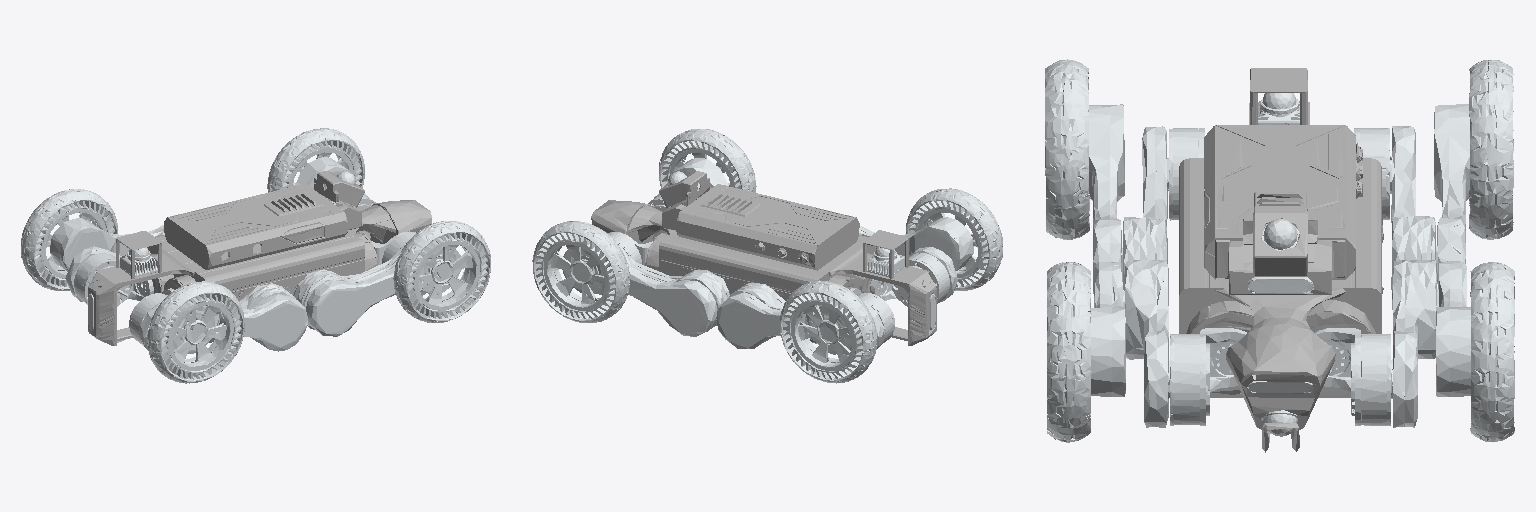
--- What the picture shows (computed from the rendered views, not written in the file) ---
Views: 3 orthographic renders of the robot side by side, from view 1: azimuth 30°, elevation 25°; view 2: azimuth 150°, elevation 25°; view 3: azimuth 270°, elevation 25°.
Model 轮足狗机器人v3 with 23 links and 22 joints (16 revolute, 6 fixed), rooted at base_link, posed every joint at zero.
Links seen in each view (by area): view 1: base_link, rr_foot_Link, fr_foot_Link, rl_foot_Link, fr_calf_Link, rr_calf_Link, fl_foot_Link, rl_calf_Link, rl_hip_Link, fr_thigh_Link, rr_thigh_Link, rr_hip_Link (+4 smaller); view 2: base_link, rl_foot_Link, fl_foot_Link, rr_foot_Link, fl_calf_Link, rl_calf_Link, fr_foot_Link, rr_calf_Link, rr_hip_Link, fl_thigh_Link, rl_thigh_Link, rl_hip_Link (+4 smaller); view 3: base_link, fr_foot_Link, rr_foot_Link, fl_foot_Link, rl_foot_Link, fl_thigh_Link, fr_thigh_Link, rr_calf_Link, rl_calf_Link, fl_hip_Link, fr_hip_Link, fl_calf_Link (+9 smaller).
Boxes of the visible links, x1,y1,x2,y2 form: base_link: (88, 171, 431, 345); rr_foot_Link: (147, 281, 244, 383); fr_foot_Link: (393, 221, 490, 322); rl_foot_Link: (21, 189, 117, 290); fr_calf_Link: (306, 247, 461, 336); rr_calf_Link: (173, 294, 307, 353); fl_foot_Link: (267, 128, 364, 192); rl_calf_Link: (50, 217, 164, 271); rl_hip_Link: (74, 253, 153, 306); fr_thigh_Link: (293, 244, 425, 329); rr_thigh_Link: (139, 283, 295, 349); rr_hip_Link: (129, 288, 174, 345); base_link: (591, 171, 936, 345); rl_foot_Link: (780, 281, 876, 383); fl_foot_Link: (532, 221, 629, 322); rr_foot_Link: (906, 188, 1002, 290); fl_calf_Link: (562, 247, 716, 336); rl_calf_Link: (716, 292, 851, 354); fr_foot_Link: (659, 129, 756, 192); rr_calf_Link: (859, 217, 973, 270); rr_hip_Link: (871, 253, 949, 306); fl_thigh_Link: (597, 245, 729, 331); rl_thigh_Link: (729, 283, 884, 350); rl_hip_Link: (850, 288, 894, 343); base_link: (1179, 68, 1383, 452); fr_foot_Link: (1047, 262, 1090, 442); rr_foot_Link: (1045, 59, 1089, 239); fl_foot_Link: (1470, 262, 1514, 441); rl_foot_Link: (1469, 60, 1513, 239); fl_thigh_Link: (1391, 260, 1436, 427); fr_thigh_Link: (1125, 260, 1169, 427); rr_calf_Link: (1088, 104, 1124, 307); rl_calf_Link: (1434, 104, 1469, 288); fl_hip_Link: (1315, 328, 1391, 425); fr_hip_Link: (1170, 328, 1246, 425); fl_calf_Link: (1436, 261, 1470, 396).
Bounding box of the posed robot: 0.8704 × 0.6146 × 0.2702 m (x, y, z).
Meshes: 23 distinct files referenced, 23 mesh visuals loaded (23 binary STL).

The robot description file, URDF, robot "轮足狗机器人v3":
<?xml version='1.0' encoding='utf-8'?>
<robot name="轮足狗机器人v3">
  <link name="base_link">
    <inertial>
      <origin xyz="-0.03614 0.00809 0.08134" rpy="0 0 0" />
      <mass value="16.68750" />
      <inertia ixx="0.23787" ixy="-0.00119" ixz="0.04530" iyy="0.52206" iyz="-0.00916" izz="0.45393" />
    </inertial>
    <visual>
      <origin xyz="0 0 0" rpy="0 0 0" />
      <geometry>
        <mesh filename="package://轮足狗机器人v3/meshes/base_link.STL" />
      </geometry>
      <material name="">
        <color rgba="0.752941176470588 0.752941176470588 0.752941176470588 1" />
      </material>
    </visual>
    
    <collision>
      <origin xyz="0 0.00124 0.07541" rpy="0 0 0" />
      <geometry>
        <box size="0.41 0.258 0.155" />
      </geometry>
    </collision>

    <collision>
      <origin xyz="0.23 0 0.07" rpy="0 0 0" />
      <geometry>
        <box size="0.05 0.27 0.14" />
      </geometry>
    </collision>

    <collision>
      <origin xyz="-0.23 0 0.07" rpy="0 0 0" />
      <geometry>
        <box size="0.05 0.27 0.14" />
      </geometry>
    </collision>

    <collision>
      <origin xyz="0.025 0 0.19" rpy="0 0 0" />
      <geometry>
        <box size="0.40 0.18 0.08" />
      </geometry>
    </collision>

    <collision>
      <origin xyz="0.2175 0 0.2365" rpy="0 0 0" />
      <geometry>
        <box size="0.095 0.12 0.073" />
      </geometry>
    </collision>

    <collision>
      <origin xyz="0.335 0 0.08" rpy="0 0 0" />
      <geometry>
        <box size="0.16 0.12 0.144" />
      </geometry>
    </collision>

    <collision>
      <origin xyz="-0.3375 0 0.08" rpy="0 0 0" />
      <geometry>
        <box size="0.165 0.10 0.15" />
      </geometry>
    </collision>
  </link>
  
  <link name="fr_hip_Link">
    <inertial>
      <origin xyz="0.07152 -0.05064 0.00083" rpy="0 0 0" />
      <mass value="1.66356" />
      <inertia ixx="0.00688" ixy="0.00652" ixz="-0.00013" iyy="0.01259" iyz="0.00008" izz="0.01604" />
    </inertial>
    <visual>
      <origin xyz="0 0 0" rpy="0 0 0" />
      <geometry>
        <mesh filename="package://轮足狗机器人v3/meshes/fr_hip_Link.STL" />
      </geometry>
      <material name="">
        <color rgba="0.898039215686275 0.917647058823529 0.929411764705882 1" />
      </material>
    </visual>
    <collision>
      <origin xyz="0.07752 -0.05564 0.00083" rpy="1.5708 0 0" />
      <geometry>
        <cylinder radius="0.06" length="0.048" />
      </geometry>
    </collision>
  </link>
  <joint name="fr_hip_joint" type="revolute">
    <origin xyz="0.2395 -0.064595 0.08065" rpy="0 0 0" />
    <parent link="base_link" />
    <child link="fr_hip_Link" />
    <axis xyz="-1 0 0" />
    <limit lower="0" upper="0" effort="0" velocity="0" />
  </joint>
  <link name="fr_thigh_Link">
    <inertial>
      <origin xyz="-0.19518 -0.02859 -0.01131" rpy="0 0 0" />
      <mass value="2.41000" />
      <inertia ixx="0.00577" ixy="-0.01508" ixz="-0.00665" iyy="0.12042" iyz="-0.00087" izz="0.12014" />
    </inertial>
    <visual>
      <origin xyz="0 0 0" rpy="0 0 0" />
      <geometry>
        <mesh filename="package://轮足狗机器人v3/meshes/fr_thigh_Link.STL" />
      </geometry>
      <material name="">
        <color rgba="0.898039215686275 0.917647058823529 0.929411764705882 1" />
      </material>
    </visual>
    <collision>
      <origin xyz="0.00 -0.0195 0.00" rpy="1.5708 0 0" />
      <geometry>
        <cylinder radius="0.064" length="0.03" />
      </geometry>
    </collision>
    <collision>
      <origin xyz="-0.125 -0.02059 -0.01001" rpy="0 -0.13 0" />
      <geometry>
        <box size="0.18 0.03 0.06" />
      </geometry>
    </collision>
    <collision>
      <origin xyz="-0.2485 -0.032 -0.0135" rpy="1.5708 0 0" />
      <geometry>
        <cylinder radius="0.0655" length="0.056" />
      </geometry>
    </collision>
  </link>
  <joint name="fr_thigh_joint" type="revolute">
    <origin xyz="0.078 -0.0795 0" rpy="0 0 0" />
    <parent link="fr_hip_Link" />
    <child link="fr_thigh_Link" />
    <axis xyz="0 1 0" />
    <limit lower="0" upper="0" effort="0" velocity="0" />
  </joint>
  <link name="fr_calf_Link">
    <inertial>
      <origin xyz="0.17379 -0.02903 0.03734" rpy="0 0 0" />
      <mass value="1.89384" />
      <inertia ixx="0.00744" ixy="0.01072" ixz="-0.01665" iyy="0.08429" iyz="0.00231" izz="0.08134" />
    </inertial>
    <visual>
      <origin xyz="0 0 0" rpy="0 0 0" />
      <geometry>
        <mesh filename="package://轮足狗机器人v3/meshes/fr_calf_Link.STL" />
      </geometry>
      <material name="">
        <color rgba="0.898039215686275 0.917647058823529 0.929411764705882 1" />
      </material>
    </visual>
    <collision>
      <origin xyz="0.00 -0.02653 0.000" rpy="1.5708 0 0" />
      <geometry>
        <cylinder radius="0.0635" length="0.03" />
      </geometry>
    </collision>
    <collision>
      <origin xyz="0.140 -0.02903 0.03050" rpy="0 -0.2618 0" />
      <geometry>
        <box size="0.18 0.04 0.045" />
      </geometry>
    </collision>
    <collision>
      <origin xyz="0.249 -0.02903 0.05310" rpy="1.5708 0 0" />
      <geometry>
        <cylinder radius="0.06" length="0.055" />
      </geometry>
    </collision>
  </link>
  <joint name="fr_calf_joint" type="revolute">
    <origin xyz="-0.24954 -0.057 -0.01515" rpy="0 0 0" />
    <parent link="fr_thigh_Link" />
    <child link="fr_calf_Link" />
    <axis xyz="0 1 0" />
    <limit lower="0" upper="0" effort="0" velocity="0" />
  </joint>
  <link name="fr_foot_Link">
    <inertial>
      <origin xyz="0.00000 -0.01336 0.00000" rpy="0 0 0" />
      <mass value="0.32377" />
      <inertia ixx="0.00071" ixy="0.00000" ixz="0.00000" iyy="0.00121" iyz="0.00000" izz="0.00071" />
    </inertial>
    <visual>
      <origin xyz="0 0 0" rpy="0 0 0" />
      <geometry>
        <mesh filename="package://轮足狗机器人v3/meshes/fr_foot_Link.STL" />
      </geometry>
      <material name="">
        <color rgba="0.898039215686275 0.917647058823529 0.929411764705882 1" />
      </material>
    </visual>
    <collision>
      <origin xyz="0 -0.01731 0" rpy="1.5708 0 0" />
      <geometry>
        <cylinder radius="0.12" length="0.05617" />
      </geometry>
    </collision>
  </link>
  <joint name="fr_foot_joint" type="revolute">
    <origin xyz="0.24443 -0.061 0.0525" rpy="0 0 0" />
    <parent link="fr_calf_Link" />
    <child link="fr_foot_Link" />
    <axis xyz="0 1 0" />
    <limit lower="0" upper="0" effort="0" velocity="0" />
  </joint>

  <link name="fl_hip_Link">
    <inertial>
      <origin xyz="0.07132 0.05064 0.00088" rpy="0 0 0" />
      <mass value="1.66356" />
      <inertia ixx="0.00690" ixy="-0.00654" ixz="-0.00008" iyy="0.01253" iyz="-0.00007" izz="0.01596" />
    </inertial>
    <visual>
      <origin xyz="0 0 0" rpy="0 0 0" />
      <geometry>
        <mesh filename="package://轮足狗机器人v3/meshes/fl_hip_Link.STL" />
      </geometry>
      <material name="">
        <color rgba="0.898039215686275 0.917647058823529 0.929411764705882 1" />
      </material>
    </visual>
    <collision>
      <origin xyz="0.07752 0.05564 0.00083" rpy="1.5708 0 0" />
      <geometry>
        <cylinder radius="0.06" length="0.048" />
      </geometry>
    </collision>
  </link>
  <joint name="fl_hip_joint" type="revolute">
    <origin xyz="0.2395 0.065405 0.08065" rpy="0 0 0" />
    <parent link="base_link" />
    <child link="fl_hip_Link" />
    <axis xyz="-1 0 0" />
    <limit lower="0" upper="0" effort="0" velocity="0" />
  </joint>
  <link name="fl_thigh_Link">
    <inertial>
      <origin xyz="-0.19482 0.02859 -0.01176" rpy="0 0 0" />
      <mass value="2.41000" />
      <inertia ixx="0.00584" ixy="0.01503" ixz="-0.00692" iyy="0.12002" iyz="0.00093" izz="0.11966" />
    </inertial>
    <visual>
      <origin xyz="0 0 0" rpy="0 0 0" />
      <geometry>
        <mesh filename="package://轮足狗机器人v3/meshes/fl_thigh_Link.STL" />
      </geometry>
      <material name="">
        <color rgba="0.898039215686275 0.917647058823529 0.929411764705882 1" />
      </material>
    </visual>
    <collision>
      <origin xyz="0.00 0.0195 0.00" rpy="1.5708 0 0" />
      <geometry>
        <cylinder radius="0.064" length="0.03" />
      </geometry>
    </collision>
    <collision>
      <origin xyz="-0.125 0.02059 -0.01001" rpy="0 -0.13 0" />
      <geometry>
        <box size="0.18 0.03 0.06" />
      </geometry>
    </collision>
    <collision>
      <origin xyz="-0.2485 0.032 -0.0135" rpy="1.5708 0 0" />
      <geometry>
        <cylinder radius="0.0655" length="0.056" />
      </geometry>
    </collision>
  </link>
  <joint name="fl_thigh_joint" type="revolute">
    <origin xyz="0.078 0.0795 0" rpy="0 0 0" />
    <parent link="fl_hip_Link" />
    <child link="fl_thigh_Link" />
    <axis xyz="0 -1 0" />
    <limit lower="0" upper="0" effort="0" velocity="0" />
  </joint>
  <link name="fl_calf_Link">
    <inertial>
      <origin xyz="0.17384 0.02903 0.03735" rpy="0 0 0" />
      <mass value="1.89384" />
      <inertia ixx="0.00744" ixy="-0.01072" ixz="-0.01666" iyy="0.08434" iyz="-0.00231" izz="0.08139" />
    </inertial>
    <visual>
      <origin xyz="0 0 0" rpy="0 0 0" />
      <geometry>
        <mesh filename="package://轮足狗机器人v3/meshes/fl_calf_Link.STL" />
      </geometry>
      <material name="">
        <color rgba="0.898039215686275 0.917647058823529 0.929411764705882 1" />
      </material>
    </visual>
    <collision>
      <origin xyz="0.00 0.02653 0.000" rpy="1.5708 0 0" />
      <geometry>
        <cylinder radius="0.0635" length="0.03" />
      </geometry>
    </collision>
    <collision>
      <origin xyz="0.140 0.02903 0.03050" rpy="0 -0.2618 0" />
      <geometry>
        <box size="0.18 0.04 0.045" />
      </geometry>
    </collision>
    <collision>
      <origin xyz="0.249 0.02903 0.05310" rpy="1.5708 0 0" />
      <geometry>
        <cylinder radius="0.06" length="0.055" />
      </geometry>
    </collision>
  </link>
  <joint name="fl_calf_joint" type="revolute">
    <origin xyz="-0.24954 0.057 -0.01515" rpy="0 0 0" />
    <parent link="fl_thigh_Link" />
    <child link="fl_calf_Link" />
    <axis xyz="0 -1 0" />
    <limit lower="0" upper="0" effort="0" velocity="0" />
  </joint>
  <link name="fl_foot_Link">
    <inertial>
      <origin xyz="0.00000 0.01336 0.00000" rpy="0 0 0" />
      <mass value="0.32377" />
      <inertia ixx="0.00071" ixy="0.00000" ixz="0.00000" iyy="0.00121" iyz="0.00000" izz="0.00071" />
    </inertial>
    <visual>
      <origin xyz="0 0 0" rpy="0 0 0" />
      <geometry>
        <mesh filename="package://轮足狗机器人v3/meshes/fl_foot_Link.STL" />
      </geometry>
      <material name="">
        <color rgba="0.898039215686275 0.917647058823529 0.929411764705882 1" />
      </material>
    </visual>
    <collision>
      <origin xyz="0 0.01693 0" rpy="1.5708 0 0" />
      <geometry>
        <cylinder radius="0.12" length="0.05617" />
      </geometry>
    </collision>
  </link>
  <joint name="fl_foot_joint" type="revolute">
    <origin xyz="0.24443 0.061 0.0525" rpy="0 0 0" />
    <parent link="fl_calf_Link" />
    <child link="fl_foot_Link" />
    <axis xyz="0 -1 0" />
    <limit lower="0" upper="0" effort="0" velocity="0" />
  </joint>

  <link name="rr_hip_Link">
    <inertial>
      <origin xyz="-0.07082 -0.05065 0.00038" rpy="0 0 0" />
      <mass value="1.66356" />
      <inertia ixx="0.00687" ixy="-0.00650" ixz="0.00004" iyy="0.01240" iyz="0.00005" izz="0.01586" />
    </inertial>
    <visual>
      <origin xyz="0 0 0" rpy="0 0 0" />
      <geometry>
        <mesh filename="package://轮足狗机器人v3/meshes/rr_hip_Link.STL" />
      </geometry>
      <material name="">
        <color rgba="0.898039215686275 0.917647058823529 0.929411764705882 1" />
      </material>
    </visual>
    <collision>
      <origin xyz="-0.07752 -0.05564 0.00083" rpy="1.5708 0 0" />
      <geometry>
        <cylinder radius="0.06" length="0.048" />
      </geometry>
    </collision>
  </link>
  <joint name="rr_hip_Link" type="revolute">
    <origin xyz="-0.2395 -0.066245 0.08065" rpy="0 0 0" />
    <parent link="base_link" />
    <child link="rr_hip_Link" />
    <axis xyz="1 0 0" />
    <limit lower="0" upper="0" effort="0" velocity="0" />
  </joint>
  <link name="rr_thigh_Link">
    <inertial>
      <origin xyz="0.19475 -0.02849 -0.01303" rpy="0 0 0" />
      <mass value="2.41000" />
      <inertia ixx="0.00592" ixy="0.01497" ixz="0.00765" iyy="0.12004" iyz="-0.00100" izz="0.11957" />
    </inertial>
    <visual>
      <origin xyz="0 0 0" rpy="0 0 0" />
      <geometry>
        <mesh filename="package://轮足狗机器人v3/meshes/rr_thigh_Link.STL" />
      </geometry>
      <material name="">
        <color rgba="0.898039215686275 0.917647058823529 0.929411764705882 1" />
      </material>
    </visual>
    <collision>
      <origin xyz="0.00 -0.0195 0.00" rpy="1.5708 0 0" />
      <geometry>
        <cylinder radius="0.064" length="0.03" />
      </geometry>
    </collision>
    <collision>
      <origin xyz="0.125 -0.02059 -0.01001" rpy="0 0.13 0" />
      <geometry>
        <box size="0.18 0.03 0.06" />
      </geometry>
    </collision>
    <collision>
      <origin xyz="0.2485 -0.032 -0.0135" rpy="1.5708 0 0" />
      <geometry>
        <cylinder radius="0.0655" length="0.056" />
      </geometry>
    </collision>
  </link>
  <joint name="rr_thigh_joint" type="revolute">
    <origin xyz="-0.078 -0.079497 -0.00063243" rpy="0 0 0" />
    <parent link="rr_hip_Link" />
    <child link="rr_thigh_Link" />
    <axis xyz="0 0.99997 0.0079551" />
    <limit lower="0" upper="0" effort="0" velocity="0" />
  </joint>
  <link name="rr_calf_Link">
    <inertial>
      <origin xyz="-0.17337 -0.02935 0.03924" rpy="0 0 0" />
      <mass value="1.89384" />
      <inertia ixx="0.00786" ixy="-0.01083" ixz="0.01747" iyy="0.08430" iyz="0.00247" izz="0.08101" />
    </inertial>
    <visual>
      <origin xyz="0 0 0" rpy="0 0 0" />
      <geometry>
        <mesh filename="package://轮足狗机器人v3/meshes/rr_calf_Link.STL" />
      </geometry>
      <material name="">
        <color rgba="0.898039215686275 0.917647058823529 0.929411764705882 1" />
      </material>
    </visual>
    <collision>
      <origin xyz="0.00 -0.02653 0.000" rpy="1.5708 0 0" />
      <geometry>
        <cylinder radius="0.0635" length="0.03" />
      </geometry>
    </collision>
    <collision>
      <origin xyz="-0.140 -0.02903 0.03050" rpy="0 0.2618 0" />
      <geometry>
        <box size="0.18 0.04 0.045" />
      </geometry>
    </collision>
    <collision>
      <origin xyz="-0.249 -0.02903 0.05310" rpy="1.5708 0 0" />
      <geometry>
        <cylinder radius="0.06" length="0.055" />
      </geometry>
    </collision>
  </link>
  <joint name="rr_calf_joint" type="revolute">
    <origin xyz="0.24946 -0.056867 -0.016903" rpy="0 0 0" />
    <parent link="rr_thigh_Link" />
    <child link="rr_calf_Link" />
    <axis xyz="0 0.99997 0.0079551" />
    <limit lower="0" upper="0" effort="0" velocity="0" />
  </joint>
  <link name="rr_foot_Link">
    <inertial>
      <origin xyz="0.00000 -0.01336 -0.00011" rpy="0 0 0" />
      <mass value="0.32377" />
      <inertia ixx="0.00071" ixy="0.00000" ixz="0.00000" iyy="0.00121" iyz="0.00000" izz="0.00071" />
    </inertial>
    <visual>
      <origin xyz="0 0 0" rpy="0 0 0" />
      <geometry>
        <mesh filename="package://轮足狗机器人v3/meshes/rr_foot_Link.STL" />
      </geometry>
      <material name="">
        <color rgba="0.898039215686275 0.917647058823529 0.929411764705882 1" />
      </material>
    </visual>
    <collision>
      <origin xyz="0 -0.01731 0" rpy="1.5708 0 0" />
      <geometry>
        <cylinder radius="0.12" length="0.05617" />
      </geometry>
    </collision>
  </link>
  <joint name="rr_foot_joint" type="revolute">
    <origin xyz="-0.24377 -0.061439 0.054994" rpy="0 0 0" />
    <parent link="rr_calf_Link" />
    <child link="rr_foot_Link" />
    <axis xyz="0 0.99997 0.0079551" />
    <limit lower="0" upper="0" effort="0" velocity="0" />
  </joint>

  <link name="rl_hip_Link">
    <inertial>
      <origin xyz="-0.07136 0.05064 -0.00087" rpy="0 0 0" />
      <mass value="1.66356" />
      <inertia ixx="0.00691" ixy="0.00655" ixz="-0.00008" iyy="0.01254" iyz="0.00007" izz="0.01597" />
    </inertial>
    <visual>
      <origin xyz="0 0 0" rpy="0 0 0" />
      <geometry>
        <mesh filename="package://轮足狗机器人v3/meshes/rl_hip_Link.STL" />
      </geometry>
      <material name="">
        <color rgba="0.898039215686275 0.917647058823529 0.929411764705882 1" />
      </material>
    </visual>
    <collision>
      <origin xyz="-0.07752 0.05564 0.00083" rpy="1.5708 0 0" />
      <geometry>
        <cylinder radius="0.06" length="0.048" />
      </geometry>
    </collision>
  </link>
  <joint name="rl_hip_joint" type="revolute">
    <origin xyz="-0.2395 0.063755 0.08065" rpy="0 0 0" />
    <parent link="base_link" />
    <child link="rl_hip_Link" />
    <axis xyz="1 0 0" />
    <limit lower="0" upper="0" effort="0" velocity="0" />
  </joint>
  <link name="rl_thigh_Link">
    <inertial>
      <origin xyz="0.19518 0.02859 -0.01131" rpy="0 0 0" />
      <mass value="2.41000" />
      <inertia ixx="0.00577" ixy="-0.01508" ixz="0.00665" iyy="0.12042" iyz="0.00087" izz="0.12014" />
    </inertial>
    <visual>
      <origin xyz="0 0 0" rpy="0 0 0" />
      <geometry>
        <mesh filename="package://轮足狗机器人v3/meshes/rl_thigh_Link.STL" />
      </geometry>
      <material name="">
        <color rgba="0.898039215686275 0.917647058823529 0.929411764705882 1" />
      </material>
    </visual>
    <collision>
      <origin xyz="0.00 0.0195 0.00" rpy="1.5708 0 0" />
      <geometry>
        <cylinder radius="0.064" length="0.03" />
      </geometry>
    </collision>
    <collision>
      <origin xyz="0.125 0.02059 -0.01001" rpy="0 0.13 0" />
      <geometry>
        <box size="0.18 0.03 0.06" />
      </geometry>
    </collision>
    <collision>
      <origin xyz="0.2485 0.032 -0.0135" rpy="1.5708 0 0" />
      <geometry>
        <cylinder radius="0.0655" length="0.056" />
      </geometry>
    </collision>
  </link>
  <joint name="rl_thigh_joint" type="revolute">
    <origin xyz="-0.078 0.0795 0" rpy="0 0 0" />
    <parent link="rl_hip_Link" />
    <child link="rl_thigh_Link" />
    <axis xyz="0 -1 0" />
    <limit lower="0" upper="0" effort="0" velocity="0" />
  </joint>
  <link name="rl_calf_Link">
    <inertial>
      <origin xyz="-0.17385 0.02903 0.03733" rpy="0 0 0" />
      <mass value="1.89384" />
      <inertia ixx="0.00744" ixy="0.01073" ixz="0.01665" iyy="0.08434" iyz="-0.00230" izz="0.08140" />
    </inertial>
    <visual>
      <origin xyz="0 0 0" rpy="0 0 0" />
      <geometry>
        <mesh filename="package://轮足狗机器人v3/meshes/rl_calf_Link.STL" />
      </geometry>
      <material name="">
        <color rgba="0.898039215686275 0.917647058823529 0.929411764705882 1" />
      </material>
    </visual>
    <collision>
      <origin xyz="0.00 0.02653 0.000" rpy="1.5708 0 0" />
      <geometry>
        <cylinder radius="0.0635" length="0.03" />
      </geometry>
    </collision>
    <collision>
      <origin xyz="-0.140 0.02903 0.03050" rpy="0 0.2618 0" />
      <geometry>
        <box size="0.18 0.04 0.045" />
      </geometry>
    </collision>
    <collision>
      <origin xyz="-0.249 0.02903 0.05310" rpy="1.5708 0 0" />
      <geometry>
        <cylinder radius="0.06" length="0.055" />
      </geometry>
    </collision>
  </link>
  <joint name="rl_calf_joint" type="revolute">
    <origin xyz="0.24954 0.057 -0.01515" rpy="0 0 0" />
    <parent link="rl_thigh_Link" />
    <child link="rl_calf_Link" />
    <axis xyz="0 -1 0" />
    <limit lower="0" upper="0" effort="0" velocity="0" />
  </joint>
  <link name="rl_foot_Link">
    <inertial>
      <origin xyz="0.00000 0.01336 0.00000" rpy="0 0 0" />
      <mass value="0.32377" />
      <inertia ixx="0.00071" ixy="0.00000" ixz="0.00000" iyy="0.00121" iyz="0.00000" izz="0.00071" />
    </inertial>
    <visual>
      <origin xyz="0 0 0" rpy="0 0 0" />
      <geometry>
        <mesh filename="package://轮足狗机器人v3/meshes/rl_foot_Link.STL" />
      </geometry>
      <material name="">
        <color rgba="0.898039215686275 0.917647058823529 0.929411764705882 1" />
      </material>
    </visual>
    <collision>
      <origin xyz="0 0.01731 0" rpy="1.5708 0 0" />
      <geometry>
        <cylinder radius="0.12" length="0.05617" />
      </geometry>
    </collision>
  </link>
  <joint name="rl_foot_joint" type="revolute">
    <origin xyz="-0.24443 0.061 0.0525" rpy="0 0 0" />
    <parent link="rl_calf_Link" />
    <child link="rl_foot_Link" />
    <axis xyz="0 -1 0" />
    <limit lower="0" upper="0" effort="0" velocity="0" />
  </joint>

  <link name="lidar1_Link">
    <inertial>
      <origin xyz="-0.00115 -0.00002 -0.00940" rpy="0 0 0" />
      <mass value="0.05259" />
      <inertia ixx="0.00004" ixy="0.00000" ixz="0.00000" iyy="0.00004" iyz="0.00000" izz="0.00002" />
    </inertial>
    <visual>
      <origin xyz="0 0 0" rpy="0 0 0" />
      <geometry>
        <mesh filename="package://轮足狗机器人v3/meshes/lidar1_Link.STL" />
      </geometry>
      <material name="">
        <color rgba="0.898039215686275 0.917647058823529 0.929411764705882 1" />
      </material>
    </visual>
    </link>
  <joint name="lidar1_joint" type="fixed">
    <origin xyz="0.39288 0.00040465 0.057801" rpy="-3.1416 -0.7854 0" />
    <parent link="base_link" />
    <child link="lidar1_Link" />
    <axis xyz="0 0 0" />
  </joint>
  <link name="camera1_Link">
    <inertial>
      <origin xyz="-0.00092 0.00008 -0.01518" rpy="0 0 0" />
      <mass value="0.02011" />
      <inertia ixx="0.00001" ixy="0.00000" ixz="0.00000" iyy="0.00002" iyz="0.00000" izz="0.00001" />
    </inertial>
    <visual>
      <origin xyz="0 0 0" rpy="0 0 0" />
      <geometry>
        <mesh filename="package://轮足狗机器人v3/meshes/camera1_Link.STL" />
      </geometry>
      <material name="">
        <color rgba="0.898039215686275 0.917647058823529 0.929411764705882 1" />
      </material>
    </visual>
    </link>
  <joint name="camera1_joint" type="fixed">
    <origin xyz="0.41351 -0.00018636 0.11372" rpy="-1.9199 0 -1.5708" />
    <parent link="base_link" />
    <child link="camera1_Link" />
    <axis xyz="0 0 0" />
  </joint>
  <link name="lidar2_Link">
    <inertial>
      <origin xyz="-0.00115 -0.00002 -0.00940" rpy="0 0 0" />
      <mass value="0.05259" />
      <inertia ixx="0.00004" ixy="0.00000" ixz="0.00000" iyy="0.00004" iyz="0.00000" izz="0.00002" />
    </inertial>
    <visual>
      <origin xyz="0 0 0" rpy="0 0 0" />
      <geometry>
        <mesh filename="package://轮足狗机器人v3/meshes/lidar2_Link.STL" />
      </geometry>
      <material name="">
        <color rgba="0.898039215686275 0.917647058823529 0.929411764705882 1" />
      </material>
    </visual>
    <collision>
      <origin xyz="0.0 0.0 -0.00944981724023819" rpy="0 0 0" />
      <geometry>
        <box size="0.0768 0.0768 0.0801" />
      </geometry>
    </collision>
  </link>
  <joint name="lidar2_joint" type="fixed">
    <origin xyz="-0.29638 -0.0012453 0.19435" rpy="0 0 3.1416" />
    <parent link="base_link" />
    <child link="lidar2_Link" />
    <axis xyz="0 0 0" />
  </joint>
  <link name="camera2_Link">
    <inertial>
      <origin xyz="-0.00092 -0.00012 -0.01518" rpy="0 0 0" />
      <mass value="0.02011" />
      <inertia ixx="0.00001" ixy="0.00000" ixz="0.00000" iyy="0.00002" iyz="0.00000" izz="0.00001" />
    </inertial>
    <visual>
      <origin xyz="0 0 0" rpy="0 0 0" />
      <geometry>
        <mesh filename="package://轮足狗机器人v3/meshes/camera2_Link.STL" />
      </geometry>
      <material name="">
        <color rgba="0.898039215686275 0.917647058823529 0.929411764705882 1" />
      </material>
    </visual>
    </link>
  <joint name="camera2_joint" type="fixed">
    <origin xyz="-0.41791 -0.0012432 0.078009" rpy="1.5708 1.5708 -1.5838" />
    <parent link="base_link" />
    <child link="camera2_Link" />
    <axis xyz="0 0.012973 0.99992" />
    <limit lower="0" upper="0" effort="0" velocity="0" />
  </joint>
  <link name="lidar3_Link">
    <inertial>
      <origin xyz="-0.00115 -0.00002 -0.00940" rpy="0 0 0" />
      <mass value="0.05259" />
      <inertia ixx="0.00004" ixy="0.00000" ixz="0.00000" iyy="0.00004" iyz="0.00000" izz="0.00002" />
    </inertial>
    <visual>
      <origin xyz="0 0 0" rpy="0 0 0" />
      <geometry>
        <mesh filename="package://轮足狗机器人v3/meshes/lidar3_Link.STL" />
      </geometry>
      <material name="">
        <color rgba="0.898039215686275 0.917647058823529 0.929411764705882 1" />
      </material>
    </visual>
    </link>
  <joint name="lidar3_joint" type="fixed">
    <origin xyz="0.22704 0 0.24578" rpy="0 0.5236 0" />
    <parent link="base_link" />
    <child link="lidar3_Link" />
    <axis xyz="0 0 0" />
  </joint>
  <link name="camera3_Link">
    <inertial>
      <origin xyz="-0.00092 0.00008 -0.01518" rpy="0 0 0" />
      <mass value="0.02011" />
      <inertia ixx="0.00001" ixy="0.00000" ixz="0.00000" iyy="0.00002" iyz="0.00000" izz="0.00001" />
    </inertial>
    <visual>
      <origin xyz="0 0 0" rpy="0 0 0" />
      <geometry>
        <mesh filename="package://轮足狗机器人v3/meshes/camera3_Link.STL" />
      </geometry>
      <material name="">
        <color rgba="0.898039215686275 0.917647058823529 0.929411764705882 1" />
      </material>
    </visual>
    <collision>
      <origin xyz="-0.000710001215338707 0.00015663402155041695 -0.014633517173933797" rpy="0 0 0" />
      <geometry>
        <box size="0.0898 0.0259 0.0302" />
      </geometry>
    </collision>
  </link>
  <joint name="camera3_joint" type="fixed">
    <origin xyz="0.23265 -0.00058636 0.17525" rpy="-1.5708 0 -1.5708" />
    <parent link="base_link" />
    <child link="camera3_Link" />
    <axis xyz="0 0 0" />
  </joint>
</robot>
